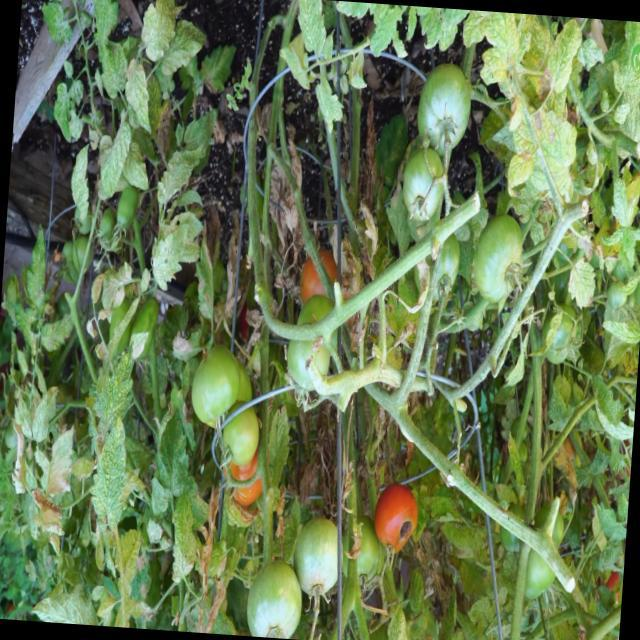Tomato spider mites leaf: (510, 102, 580, 192), (87, 414, 133, 530), (148, 405, 193, 521), (95, 108, 134, 202), (95, 338, 136, 427), (478, 10, 523, 90), (168, 486, 201, 586), (156, 139, 204, 207), (544, 15, 584, 96), (160, 17, 208, 80), (150, 220, 190, 293), (122, 56, 156, 136), (137, 0, 177, 63), (23, 220, 50, 311), (182, 103, 220, 161), (310, 74, 346, 134), (67, 140, 93, 223), (368, 3, 404, 61), (293, 0, 329, 55), (100, 258, 134, 312), (608, 168, 638, 228), (89, 0, 120, 58), (98, 41, 128, 100), (566, 257, 598, 311), (120, 141, 152, 191), (505, 148, 535, 199), (39, 312, 75, 354), (117, 528, 142, 586), (31, 386, 51, 445), (600, 316, 640, 345), (576, 35, 606, 72), (461, 9, 487, 50)
